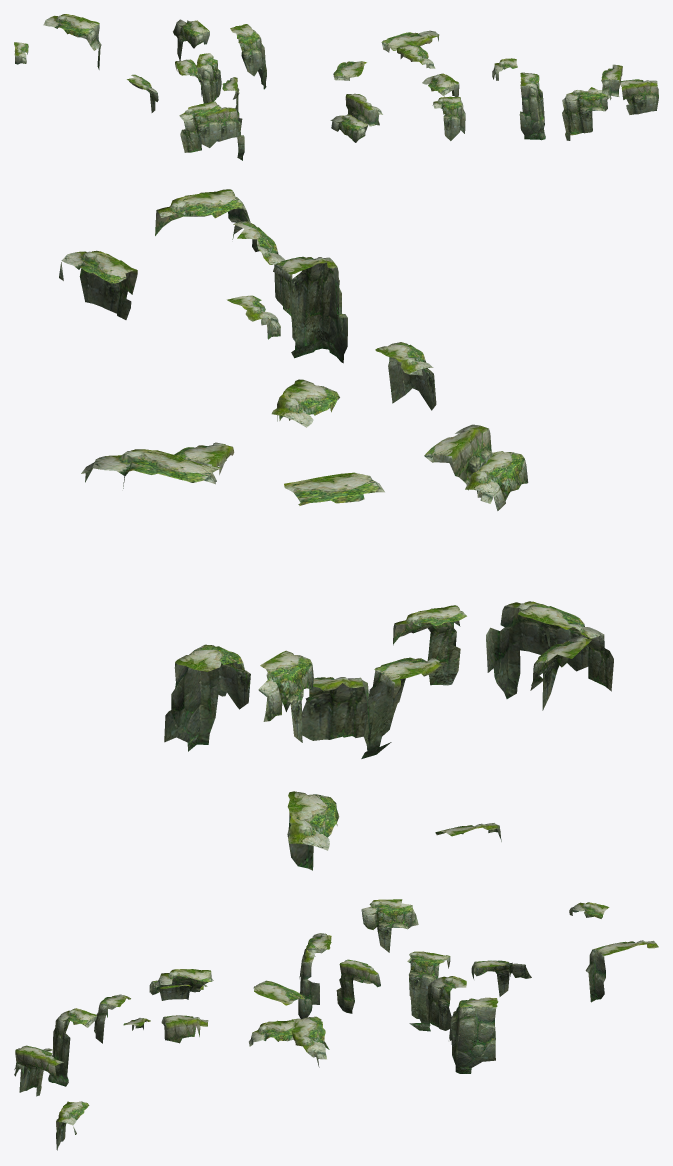
File: S_Rock_Green048_1.FBX
The picture shows the model from 3 angles, top to bottom: view 1: azimuth 30°, elevation 25°; view 2: azimuth 150°, elevation 25°; view 3: azimuth 270°, elevation 25°; orthographic projection. The views are drawn at different scales.
Parts seen in each view (by area): view 1: S_Rock_Green048_013, S_Rock_Green048_002, S_Rock_Green048_003, S_Rock_Green048_018, S_Rock_Green048_022, S_Rock_Green048_020, S_Rock_Green048_005, S_Rock_Green048_017, S_Rock_Green048_012, S_Rock_Green048_019, S_Rock_Green048_007, S_Rock_Green048_011 (+10 smaller); view 2: S_Rock_Green048_018, S_Rock_Green048_003, S_Rock_Green048_017, S_Rock_Green048_012, S_Rock_Green048_022, S_Rock_Green048_013, S_Rock_Green048_016, S_Rock_Green048_020, S_Rock_Green048_019, S_Rock_Green048_014, S_Rock_Green048_011, S_Rock_Green048_005 (+8 smaller); view 3: S_Rock_Green048_018, S_Rock_Green048_016, S_Rock_Green048_015, S_Rock_Green048_003, S_Rock_Green048_017, S_Rock_Green048_007, S_Rock_Green048_014, S_Rock_Green048_020, S_Rock_Green048_011, S_Rock_Green048_019, S_Rock_Green048_012, S_Rock_Green048_006 (+8 smaller).
Boxes of the visible parts, x1=… form: S_Rock_Green048_013: x1=179, y1=101, x2=221, y2=152; S_Rock_Green048_002: x1=562, y1=87, x2=611, y2=140; S_Rock_Green048_003: x1=519, y1=72, x2=545, y2=140; S_Rock_Green048_018: x1=230, y1=24, x2=266, y2=89; S_Rock_Green048_022: x1=620, y1=79, x2=658, y2=114; S_Rock_Green048_020: x1=43, y1=14, x2=101, y2=69; S_Rock_Green048_005: x1=432, y1=96, x2=465, y2=140; S_Rock_Green048_017: x1=196, y1=53, x2=221, y2=103; S_Rock_Green048_012: x1=207, y1=107, x2=244, y2=160; S_Rock_Green048_019: x1=173, y1=19, x2=209, y2=60; S_Rock_Green048_007: x1=345, y1=93, x2=382, y2=132; S_Rock_Green048_011: x1=381, y1=30, x2=439, y2=52; S_Rock_Green048_018: x1=164, y1=644, x2=250, y2=751; S_Rock_Green048_003: x1=273, y1=256, x2=347, y2=363; S_Rock_Green048_017: x1=302, y1=677, x2=375, y2=749; S_Rock_Green048_012: x1=486, y1=601, x2=560, y2=698; S_Rock_Green048_022: x1=59, y1=250, x2=137, y2=319; S_Rock_Green048_013: x1=518, y1=603, x2=613, y2=691; S_Rock_Green048_016: x1=361, y1=657, x2=441, y2=758; S_Rock_Green048_020: x1=287, y1=791, x2=339, y2=870; S_Rock_Green048_019: x1=258, y1=650, x2=313, y2=742; S_Rock_Green048_014: x1=393, y1=605, x2=466, y2=685; S_Rock_Green048_011: x1=81, y1=449, x2=221, y2=488; S_Rock_Green048_005: x1=375, y1=342, x2=436, y2=410; S_Rock_Green048_018: x1=449, y1=997, x2=498, y2=1073; S_Rock_Green048_016: x1=407, y1=951, x2=450, y2=1031; S_Rock_Green048_015: x1=361, y1=899, x2=418, y2=952; S_Rock_Green048_003: x1=48, y1=1008, x2=96, y2=1086; S_Rock_Green048_017: x1=425, y1=976, x2=466, y2=1030; S_Rock_Green048_007: x1=151, y1=969, x2=213, y2=1000; S_Rock_Green048_014: x1=336, y1=959, x2=380, y2=1013; S_Rock_Green048_020: x1=585, y1=940, x2=658, y2=1002; S_Rock_Green048_011: x1=291, y1=1016, x2=329, y2=1067; S_Rock_Green048_019: x1=471, y1=960, x2=531, y2=996; S_Rock_Green048_012: x1=298, y1=945, x2=319, y2=1019; S_Rock_Green048_006: x1=161, y1=1015, x2=208, y2=1043.
Bounding box in the file's own units: 13239 × 3126 × 14273.
